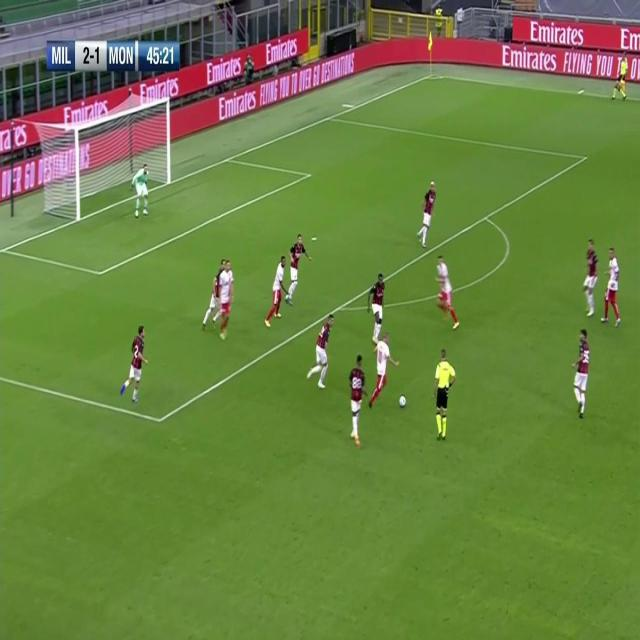ball: (398, 391, 407, 409)
player: (368, 331, 399, 413), (432, 345, 455, 441), (120, 326, 148, 404), (434, 252, 460, 332), (199, 258, 227, 332), (306, 316, 334, 390), (570, 328, 591, 423), (286, 233, 312, 304), (348, 353, 367, 449), (602, 247, 624, 329), (263, 255, 287, 326), (580, 235, 600, 317), (366, 270, 386, 342), (416, 179, 436, 247), (220, 257, 236, 339), (131, 162, 150, 220), (612, 52, 628, 103)
